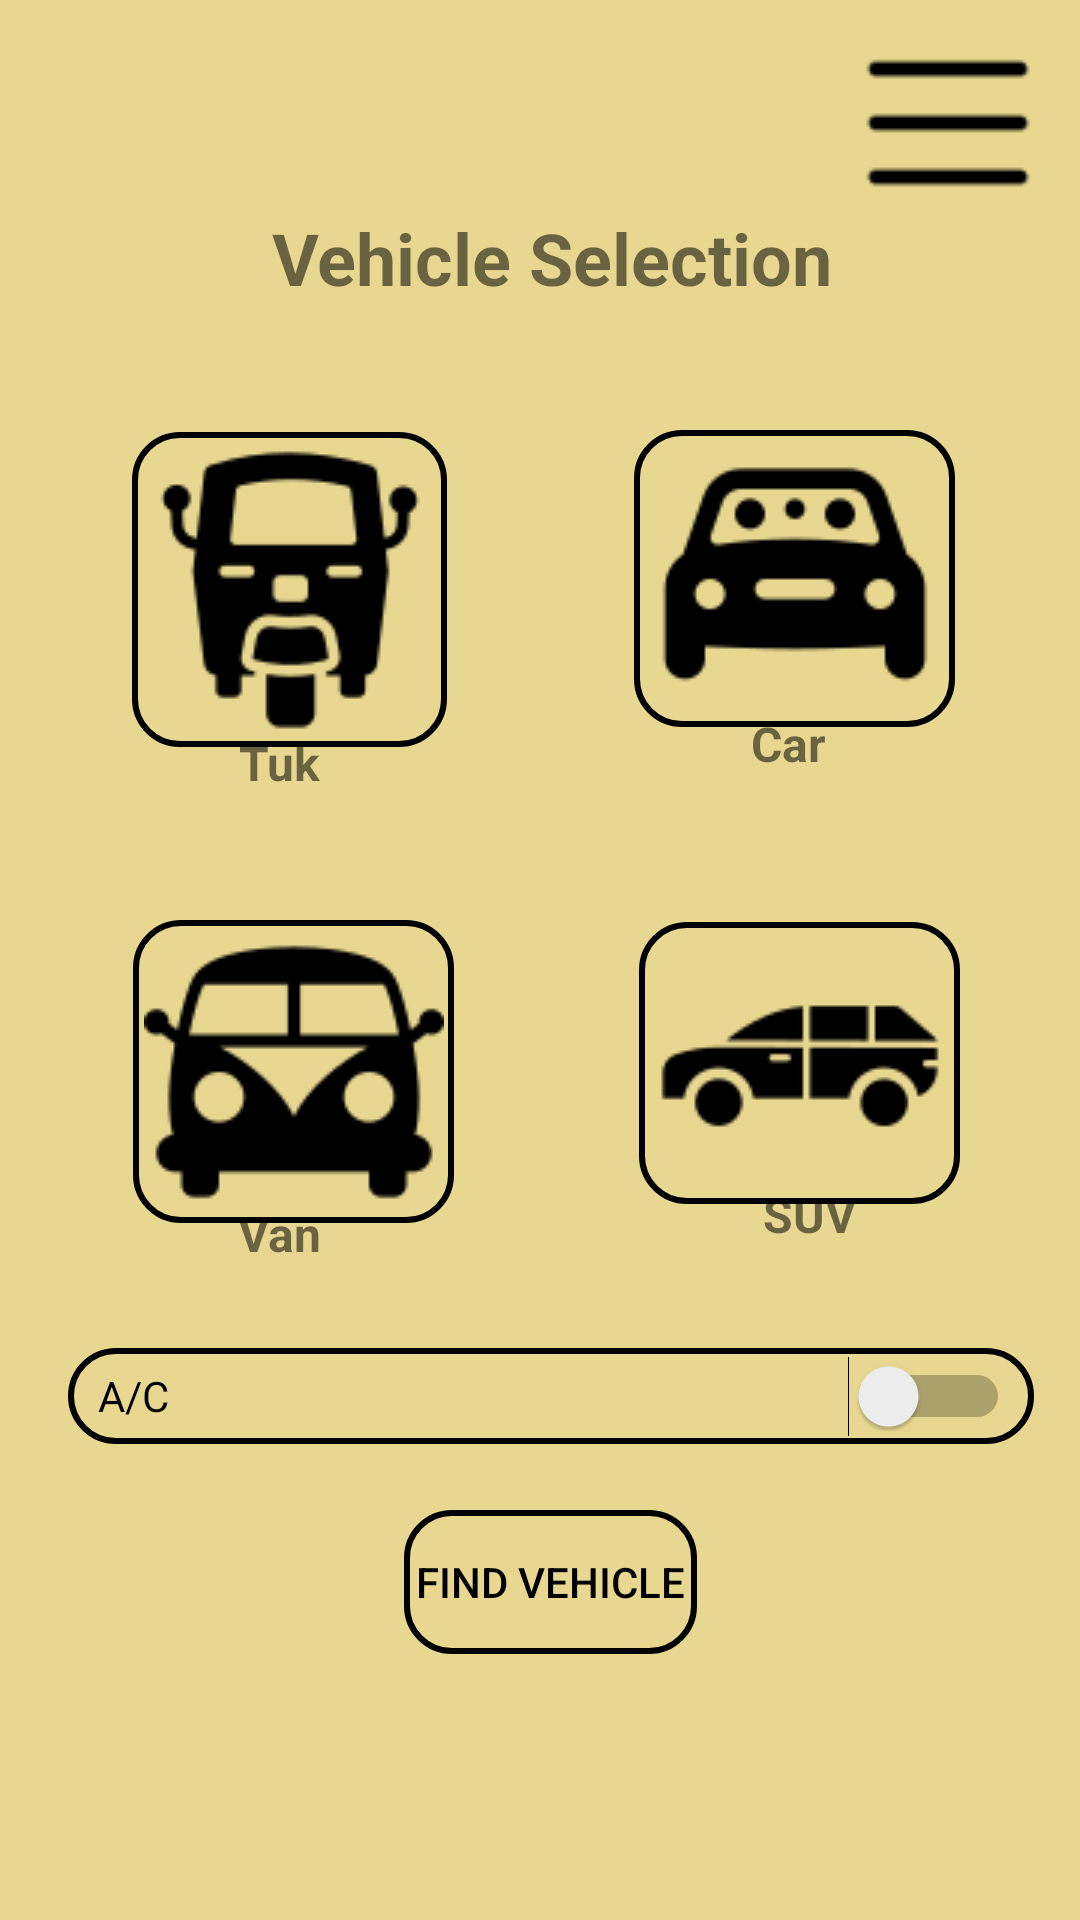

Named icons in this screenshot (1080 x 1920) and their bounding boxes, [x1=x1, y1=y1, x2=x2, y2=y2]:
menue: [x1=866, y1=59, x2=1030, y2=187]
